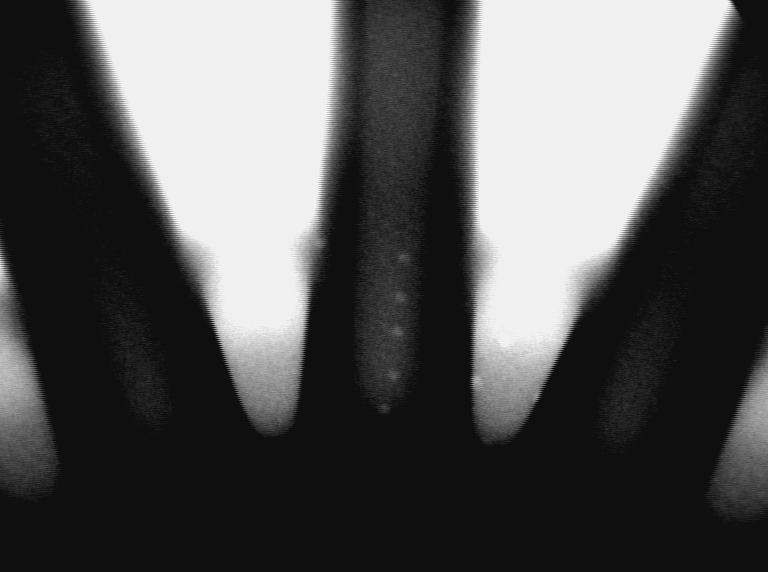defect: (310, 231, 332, 253)
